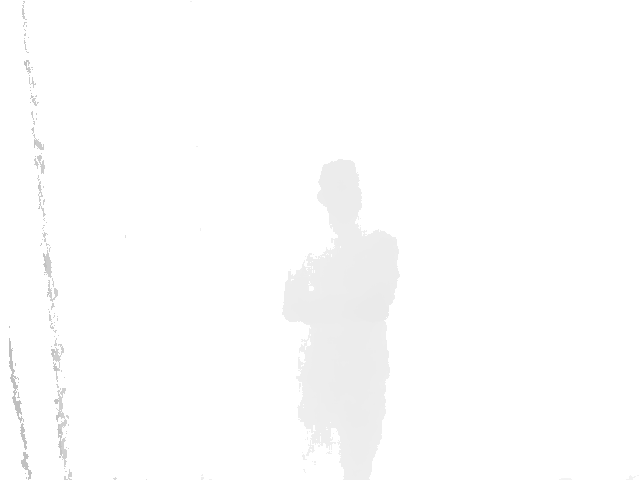head: (317, 158, 363, 223)
person: (279, 157, 402, 480)
